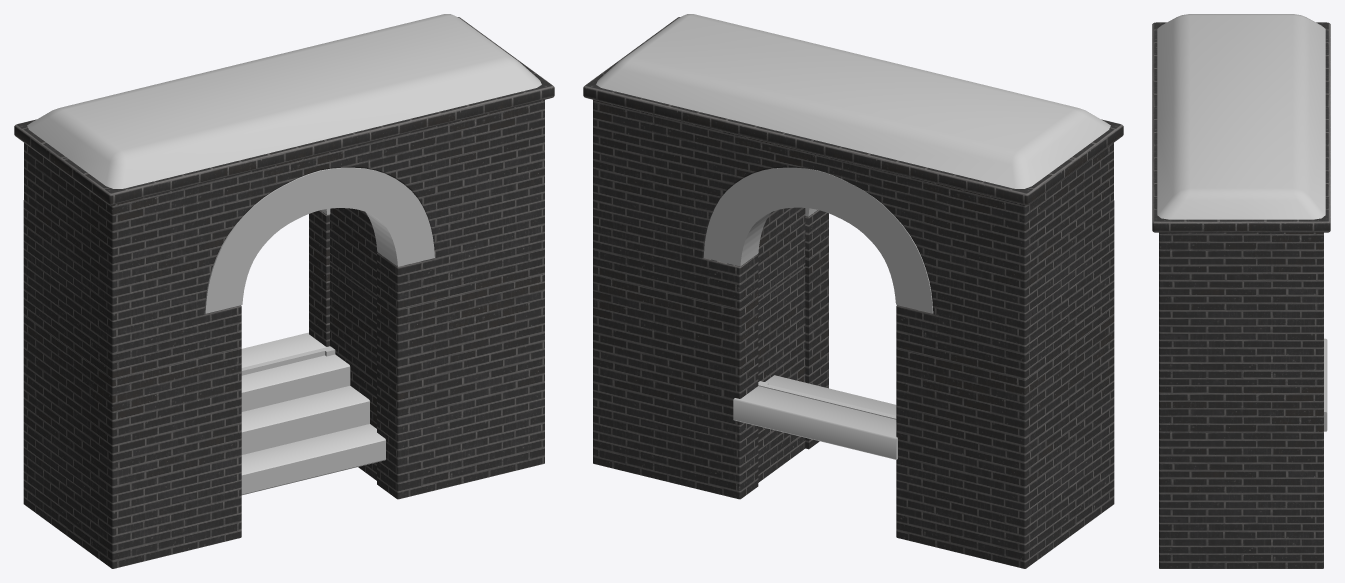
Rendered from SM_B_SmallArch.fbx.
The picture shows the model from 3 angles, left to right: view 1: azimuth 30°, elevation 25°; view 2: azimuth 150°, elevation 25°; view 3: azimuth 270°, elevation 25°; orthographic projection. The views are drawn at different scales.
Visible parts, largest first — view 1: SM_B_SmallArch; view 2: SM_B_SmallArch; view 3: SM_B_SmallArch.
Boxes of the visible parts, bbox=[...] form: SM_B_SmallArch: bbox=[14, 14, 554, 568]; SM_B_SmallArch: bbox=[583, 14, 1123, 568]; SM_B_SmallArch: bbox=[1152, 14, 1330, 568].
Size of the model in its own units: 451 by 169 by 387.
